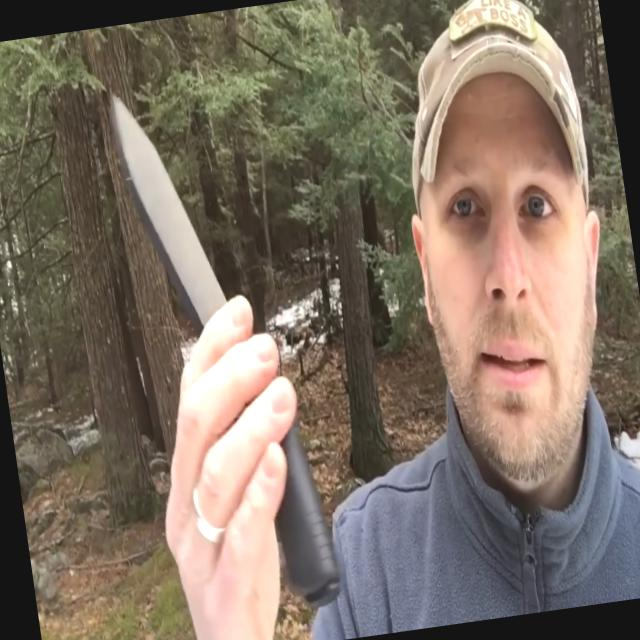knife: (96, 59, 304, 452)
